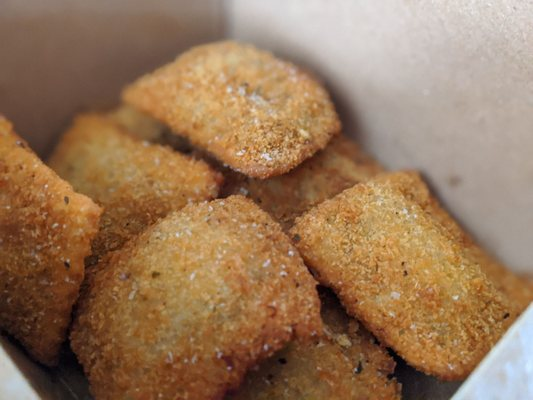salad: (0, 110, 103, 369)
